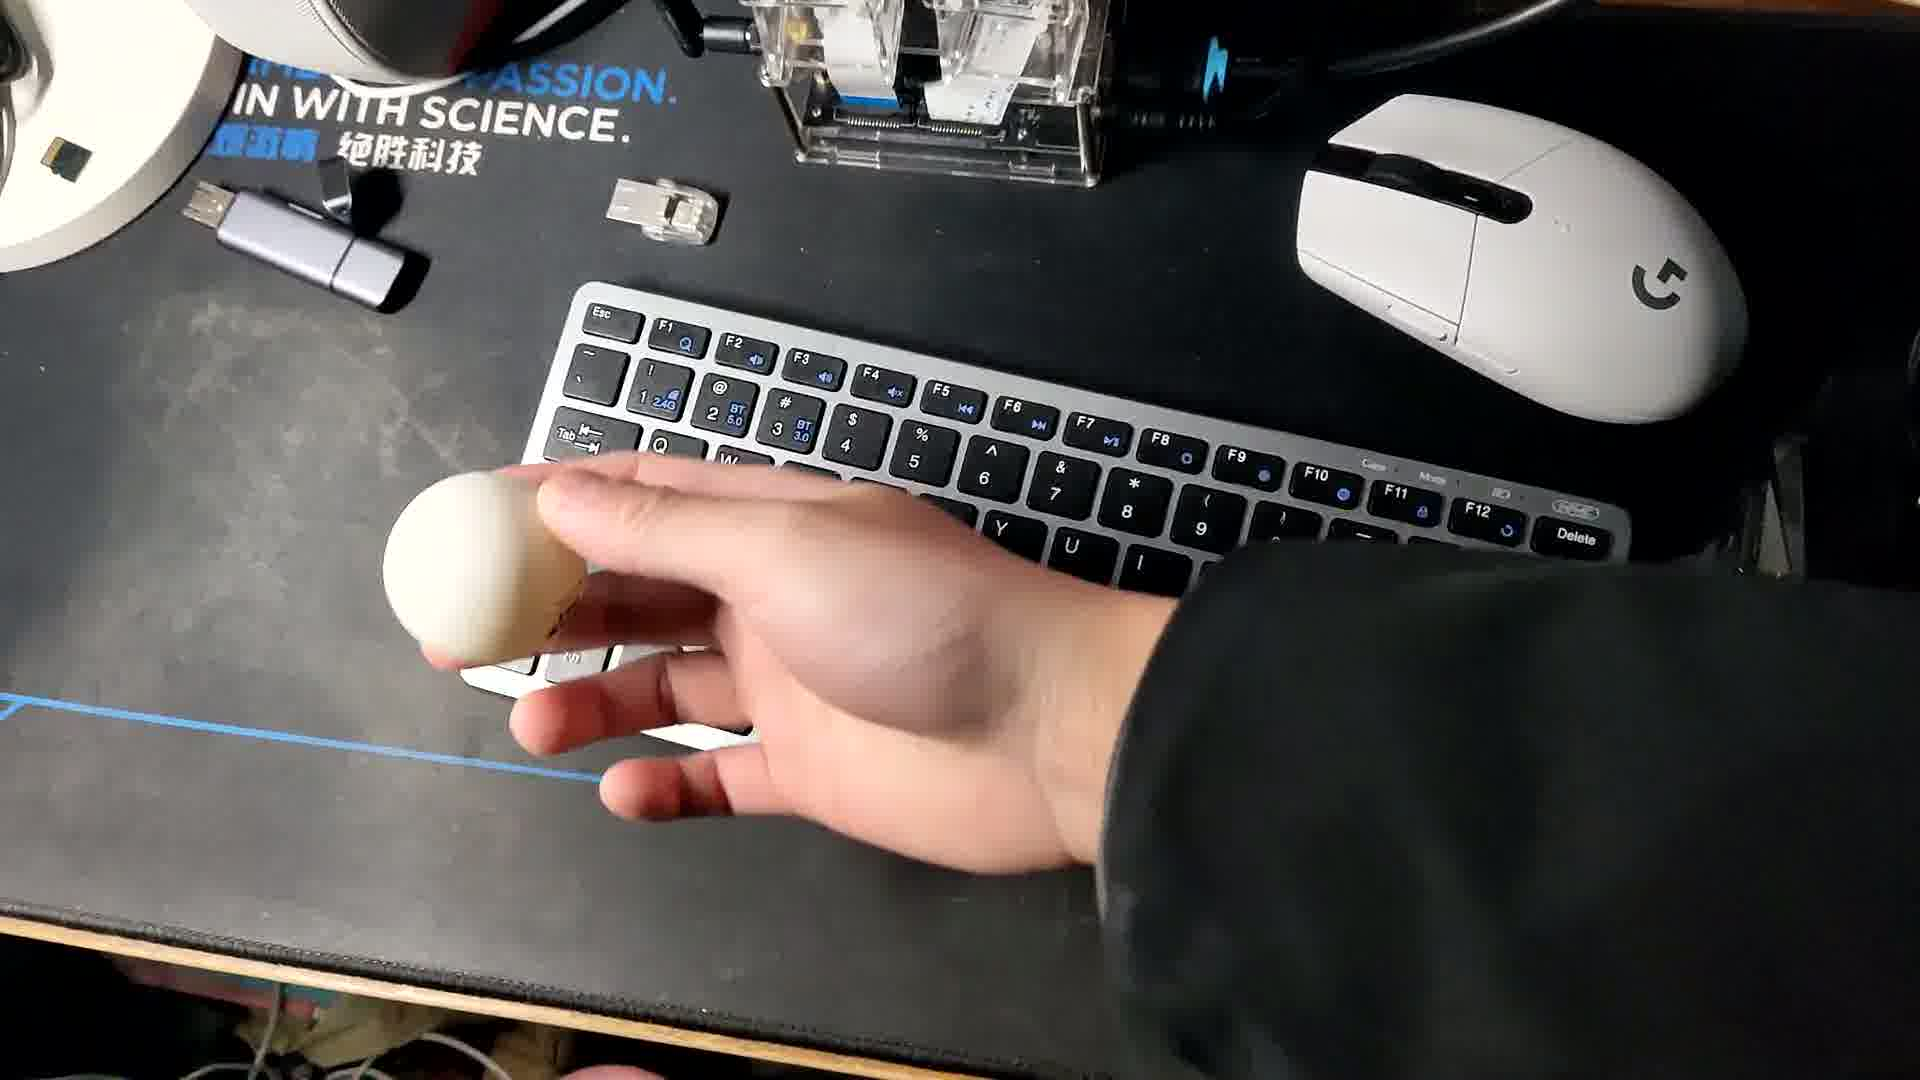Ball: (385, 473, 576, 661)
